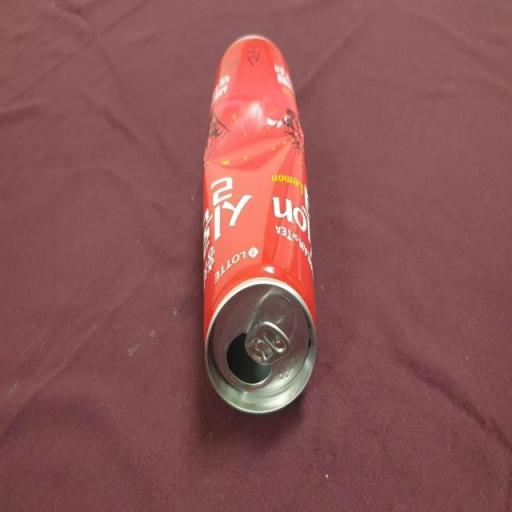metal: (190, 16, 330, 432)
